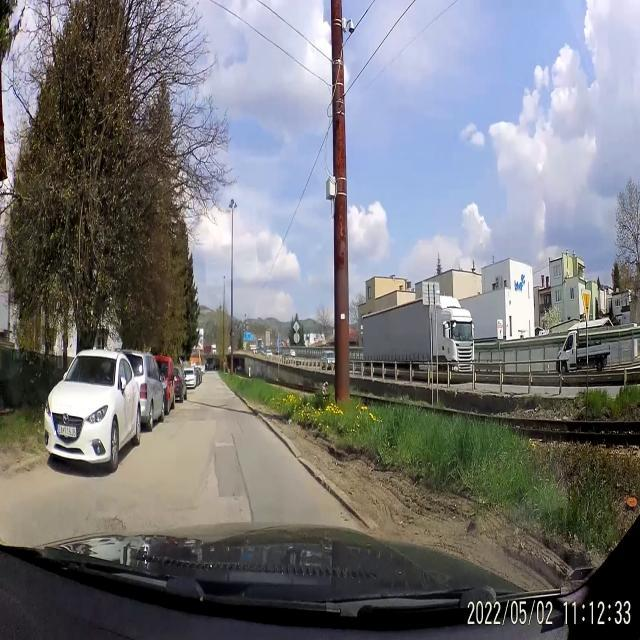Pothole: (83, 508, 125, 536)
